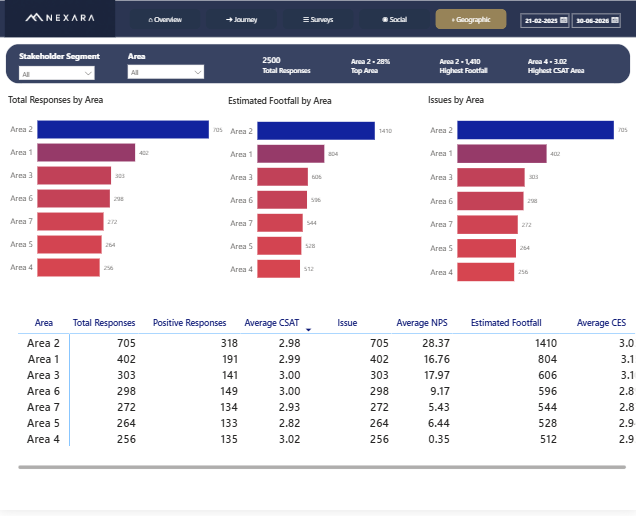

This screenshot's page, from the dashboard's own definition file:
{"tool":"powerbi","page":{"name":"⌖ Geographic","canvas":[1280,1020],"ordinal":4},"visuals":[{"type":"shape","box":[0,0,1280,74.8],"z":0},{"type":"shape","box":[14,88,1250,80],"z":1000},{"type":"pageNavigator","box":[263.3,18.3,758.3,41.7],"z":3000},{"type":"slicer","fields":{"Values":["Fact_Survey.Date"]},"box":[1038.3,23.3,241.7,38.3],"z":4000},{"type":"textbox","box":[38.3,95,211.7,35],"z":5000},{"type":"textbox","box":[255,95,198.3,35],"z":6000},{"type":"cardVisual","fields":{"Data":["Fact_Survey.Total Responses","Fact_Survey.Top District","Fact_Survey.Highest Footfall","Fact_Survey.Highest CSAT District"]},"box":[500,88,744,84],"z":7000},{"type":"slicer","title":"Account Name","fields":{"Values":["Fact_Survey.Customer Segment"]},"box":[38,127,160,32],"z":9000},{"type":"slicer","fields":{"Values":["Fact_Survey.District"]},"box":[256,125,162,36],"z":10000},{"type":"clusteredBarChart","title":"Total Responses by Area","fields":{"Category":["Fact_Survey.District"],"Y":["Fact_Survey.Total Responses"]},"box":[14,188,458,390],"z":11000},{"type":"pivotTable","title":"Geographical Performance ","fields":{"Rows":["Fact_Survey.District"],"Values":["Fact_Survey.Total Responses","Fact_Survey.Positive Responses","Avg(Fact_Survey.CSAT)","CountNonNull(Fact_Survey.Issue_Category)","Avg(Fact_Survey.NPS)","Fact_Survey.Estimated Footfall","Fact_Survey.Average CES"]},"box":[36,628,1244,316],"z":12000},{"type":"clusteredBarChart","title":"Estimated Footfall by Area","fields":{"Category":["Fact_Survey.District"],"Y":["Fact_Survey.Estimated Footfall"]},"box":[454,190,402,390],"z":13000},{"type":"clusteredBarChart","title":"Issues by Area","fields":{"Category":["Fact_Survey.District"],"Y":["CountNonNull(Fact_Survey.Issue Category)"]},"box":[856,188,424,400],"z":14000},{"type":"image","box":[0,0,248,74],"z":14001}]}

Visuals, with their boxes in screenshot pixels (x1, y1, x2, y2), scaled from the page's 1280x1020 canvas onto the 636x516 screenshot:
shape: select_region(0, 0, 635, 38)
shape: select_region(7, 45, 628, 85)
pageNavigator: select_region(131, 9, 508, 30)
slicer - Fact_Survey.Date: select_region(516, 12, 635, 31)
textbox: select_region(19, 48, 124, 66)
textbox: select_region(127, 48, 225, 66)
cardVisual - Fact_Survey.Total Responses x Fact_Survey.Top District: select_region(248, 45, 618, 87)
"Account Name" slicer: select_region(19, 64, 98, 80)
slicer - Fact_Survey.District: select_region(127, 63, 208, 81)
"Total Responses by Area" clusteredBarChart: select_region(7, 95, 235, 292)
"Geographical Performance " pivotTable: select_region(18, 318, 635, 478)
"Estimated Footfall by Area" clusteredBarChart: select_region(226, 96, 425, 293)
"Issues by Area" clusteredBarChart: select_region(425, 95, 635, 297)
image: select_region(0, 0, 123, 37)
